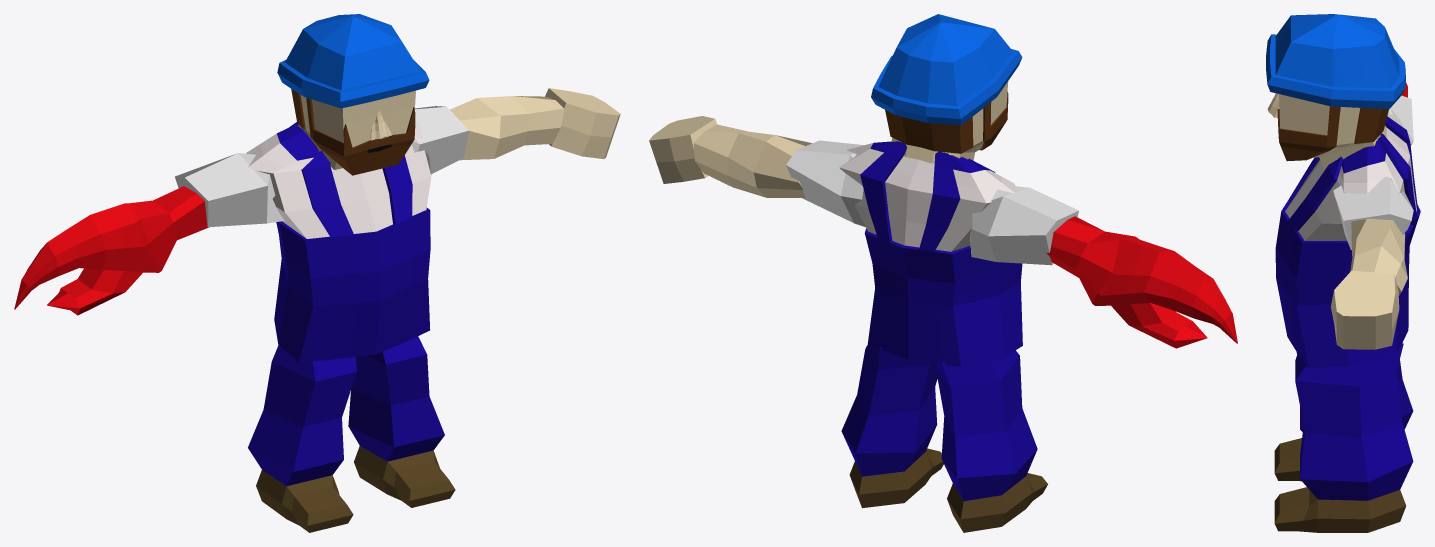
File: FishermanNew.glb
3 renders of one model, left to right at view 1: azimuth 30°, elevation 25°; view 2: azimuth 150°, elevation 25°; view 3: azimuth 270°, elevation 25°, orthographic.
Visible parts, largest first — view 1: Torso New.001, Leg New.001, Cube.005, Arm New.002, Arm New.004, Arm New.005, Cube.006, Arm New.003; view 2: Torso New.001, Leg New.001, Cube.005, Arm New.002, Arm New.005, Arm New.004, Arm New.003, Cube.006; view 3: Leg New.001, Torso New.001, Cube.005, Cube.006, Arm New.004, Arm New.003, Arm New.005.
Boxes of the visible parts, bbox=[...] form: Torso New.001: bbox=[246, 122, 431, 362]; Leg New.001: bbox=[248, 336, 455, 532]; Cube.005: bbox=[277, 14, 429, 175]; Arm New.002: bbox=[14, 186, 209, 315]; Arm New.004: bbox=[450, 96, 564, 160]; Arm New.005: bbox=[175, 153, 284, 227]; Cube.006: bbox=[545, 88, 620, 158]; Arm New.003: bbox=[412, 106, 469, 173]; Torso New.001: bbox=[839, 141, 1022, 366]; Leg New.001: bbox=[841, 344, 1047, 532]; Cube.005: bbox=[871, 14, 1022, 163]; Arm New.002: bbox=[1046, 216, 1237, 348]; Arm New.005: bbox=[970, 186, 1078, 265]; Arm New.004: bbox=[693, 124, 811, 197]; Arm New.003: bbox=[786, 140, 865, 227]; Cube.006: bbox=[649, 116, 716, 183]; Leg New.001: bbox=[1274, 343, 1413, 532]; Torso New.001: bbox=[1275, 113, 1420, 368]; Cube.005: bbox=[1266, 14, 1405, 168]; Cube.006: bbox=[1330, 270, 1399, 349]; Arm New.004: bbox=[1350, 218, 1407, 295]; Arm New.003: bbox=[1333, 176, 1413, 249]; Arm New.005: bbox=[1388, 95, 1413, 145].
Bounding box in the file's own units: 4.01 × 3.1 × 0.9005.
